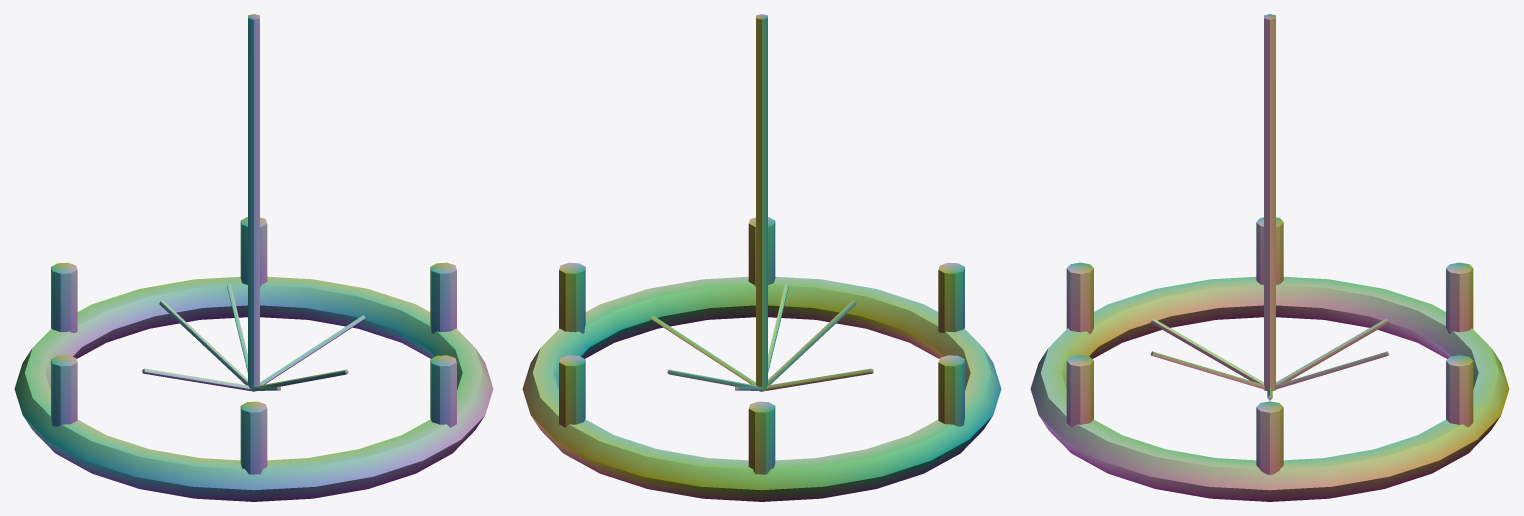
The model's file is chandelier.glb.
3 views of the same model, side by side, from view 1: azimuth 30°, elevation 25°; view 2: azimuth 150°, elevation 25°; view 3: azimuth 270°, elevation 25° (orthographic).
Visible parts, largest first — view 1: chandelier; view 2: chandelier; view 3: chandelier.
Boxes of the visible parts, box(x1,y1,x2,y2) form: chandelier: box(14, 14, 493, 501); chandelier: box(522, 14, 1001, 501); chandelier: box(1030, 14, 1509, 501).
Bounding box in the file's own units: 0.7 × 0.626 × 0.7.
